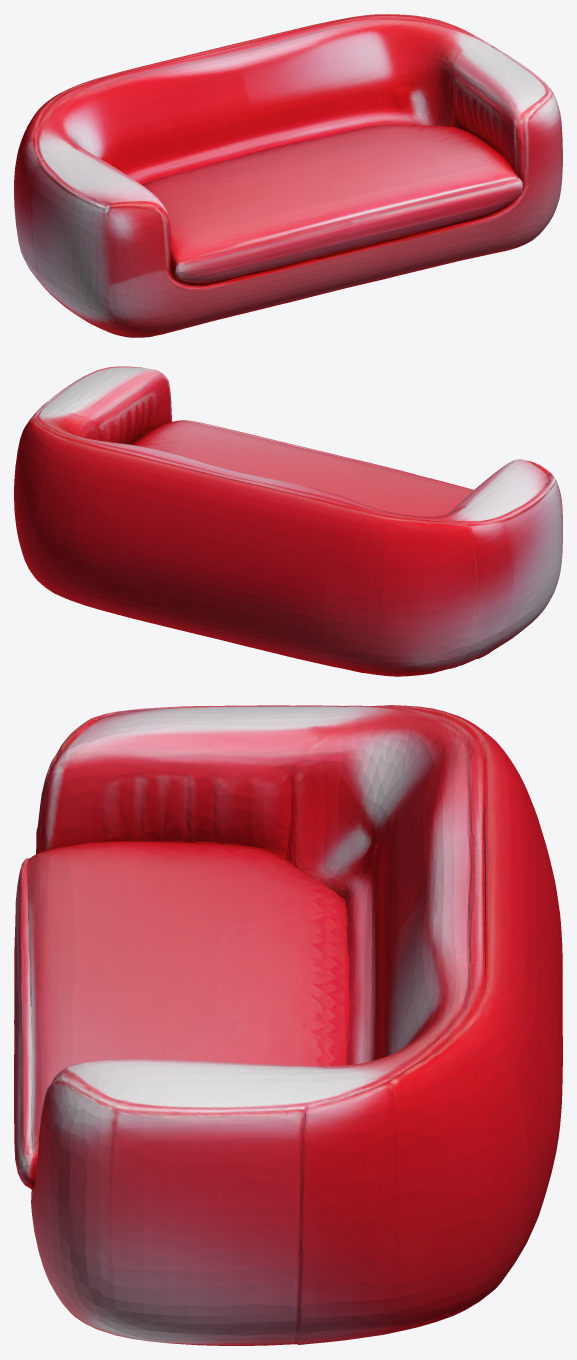
File: futuristic_reddish_sofa.glb
The picture shows the model from 3 angles, top to bottom: view 1: azimuth 30°, elevation 25°; view 2: azimuth 150°, elevation 25°; view 3: azimuth 270°, elevation 25°; orthographic projection. The views are drawn at different scales.
Visible parts, largest first — view 1: furniutre sofa 2_0; view 2: furniutre sofa 2_0; view 3: furniutre sofa 2_0.
Boxes of the visible parts, x1,y1,x2,y2 form: furniutre sofa 2_0: [14, 14, 562, 337]; furniutre sofa 2_0: [14, 366, 562, 676]; furniutre sofa 2_0: [14, 705, 562, 1345].
Bounding box in the file's own units: 3.47 × 1.16 × 1.91.
Materials: 1 (1 with a texture image).
